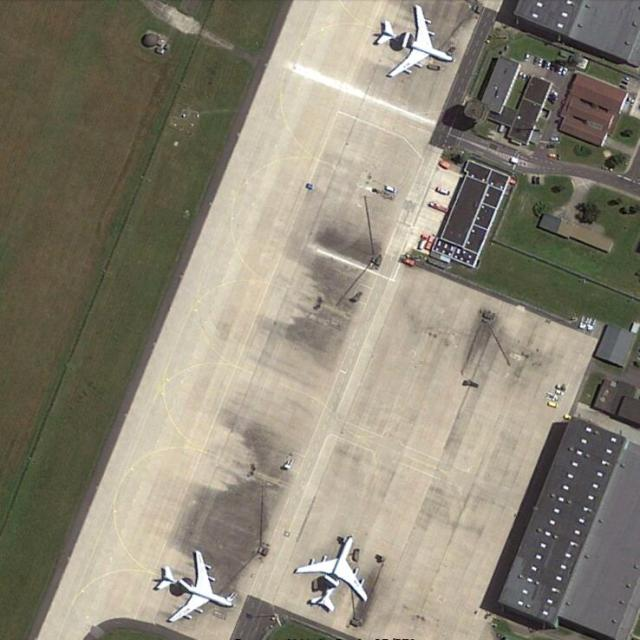fighter jet: (149, 538, 233, 627), (364, 8, 456, 80), (290, 536, 372, 610)
